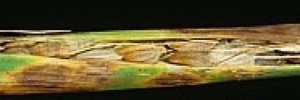RiceSheathBrownRot: (2, 25, 300, 92)
